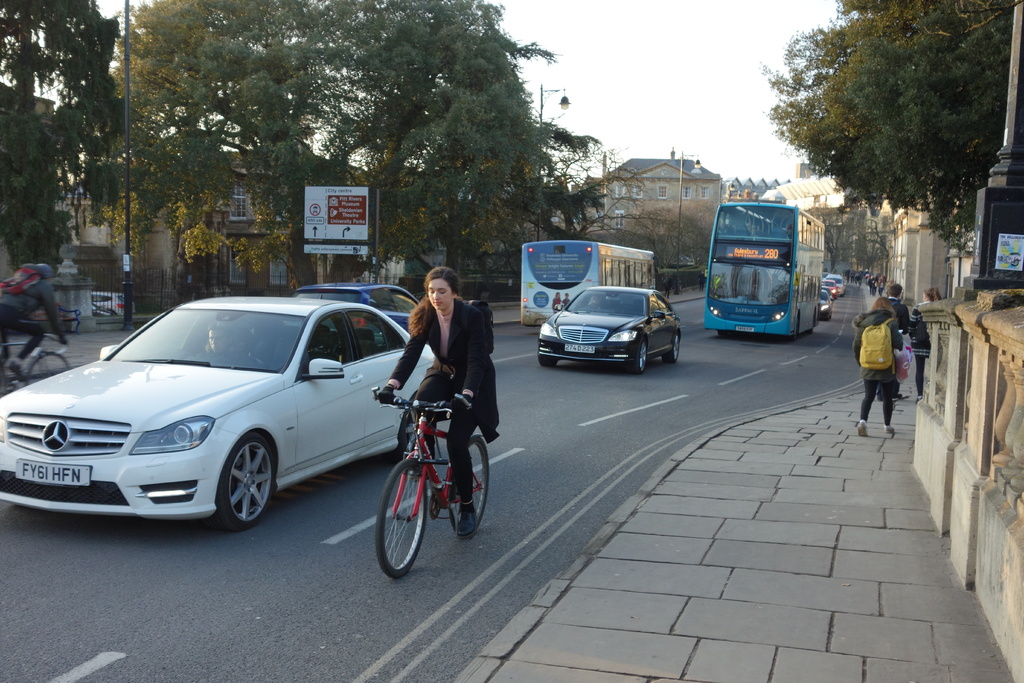Car: (0, 294, 433, 524), (533, 287, 680, 369), (300, 276, 419, 325)
